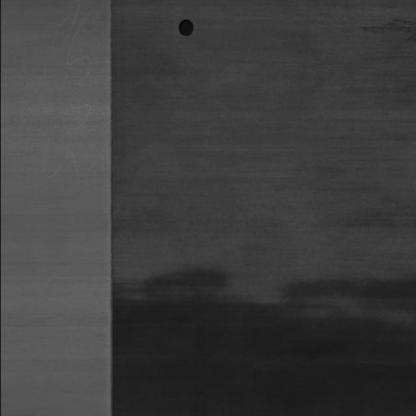punching_hole: (172, 16, 196, 44)
welding_line: (102, 4, 130, 416)
